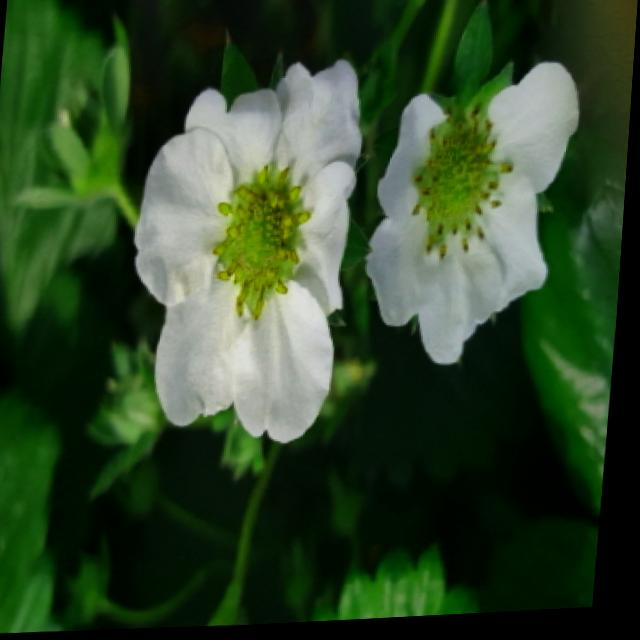Blossom Blight: (406, 102, 521, 270), (211, 161, 317, 327)
